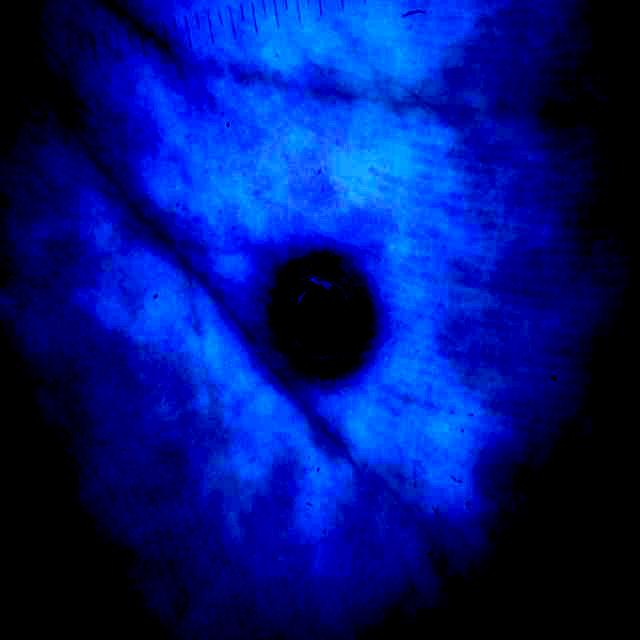VASC: (270, 252, 378, 389)
